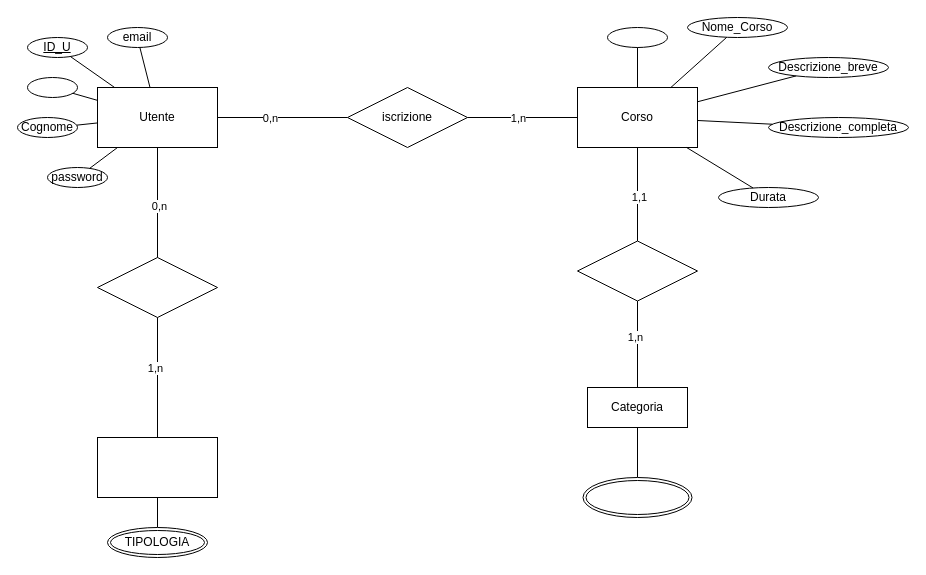
This 926x575 diagram has some shape labels left out. The box of each missing label's shape, as (x1, y1, x2, y2) in pixels:
appartiene: (96, 256, 218, 318)
ID_C: (606, 26, 668, 48)
inerente: (576, 240, 698, 301)
Nome: (26, 76, 78, 98)
Nome_categoria: (582, 476, 692, 518)
Ruolo: (96, 436, 218, 498)
